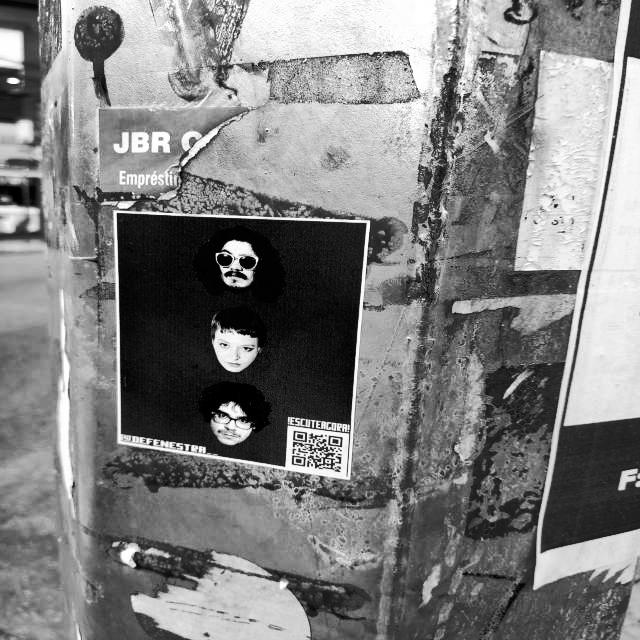qr_code: (292, 431, 342, 472)
